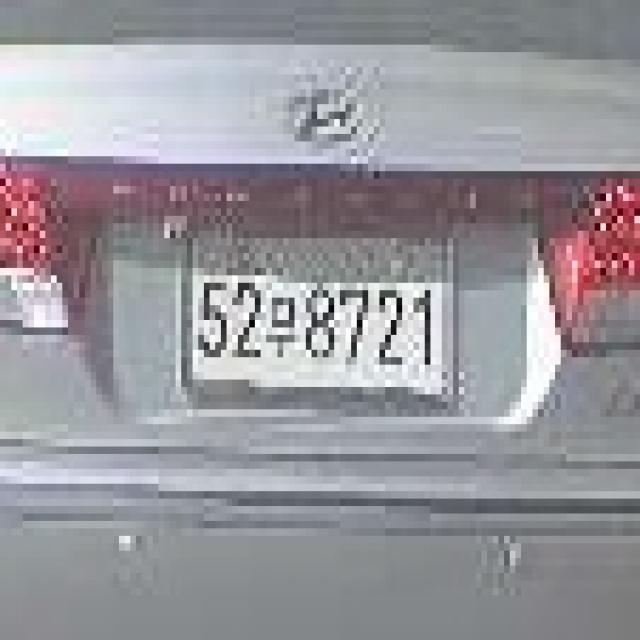1: (408, 288, 440, 380)
2: (374, 286, 410, 370), (230, 275, 262, 368)
5: (192, 271, 232, 368)
7: (342, 286, 374, 372)
8: (303, 286, 335, 368)
license_plate: (175, 223, 464, 427)
mu: (268, 288, 298, 368)
